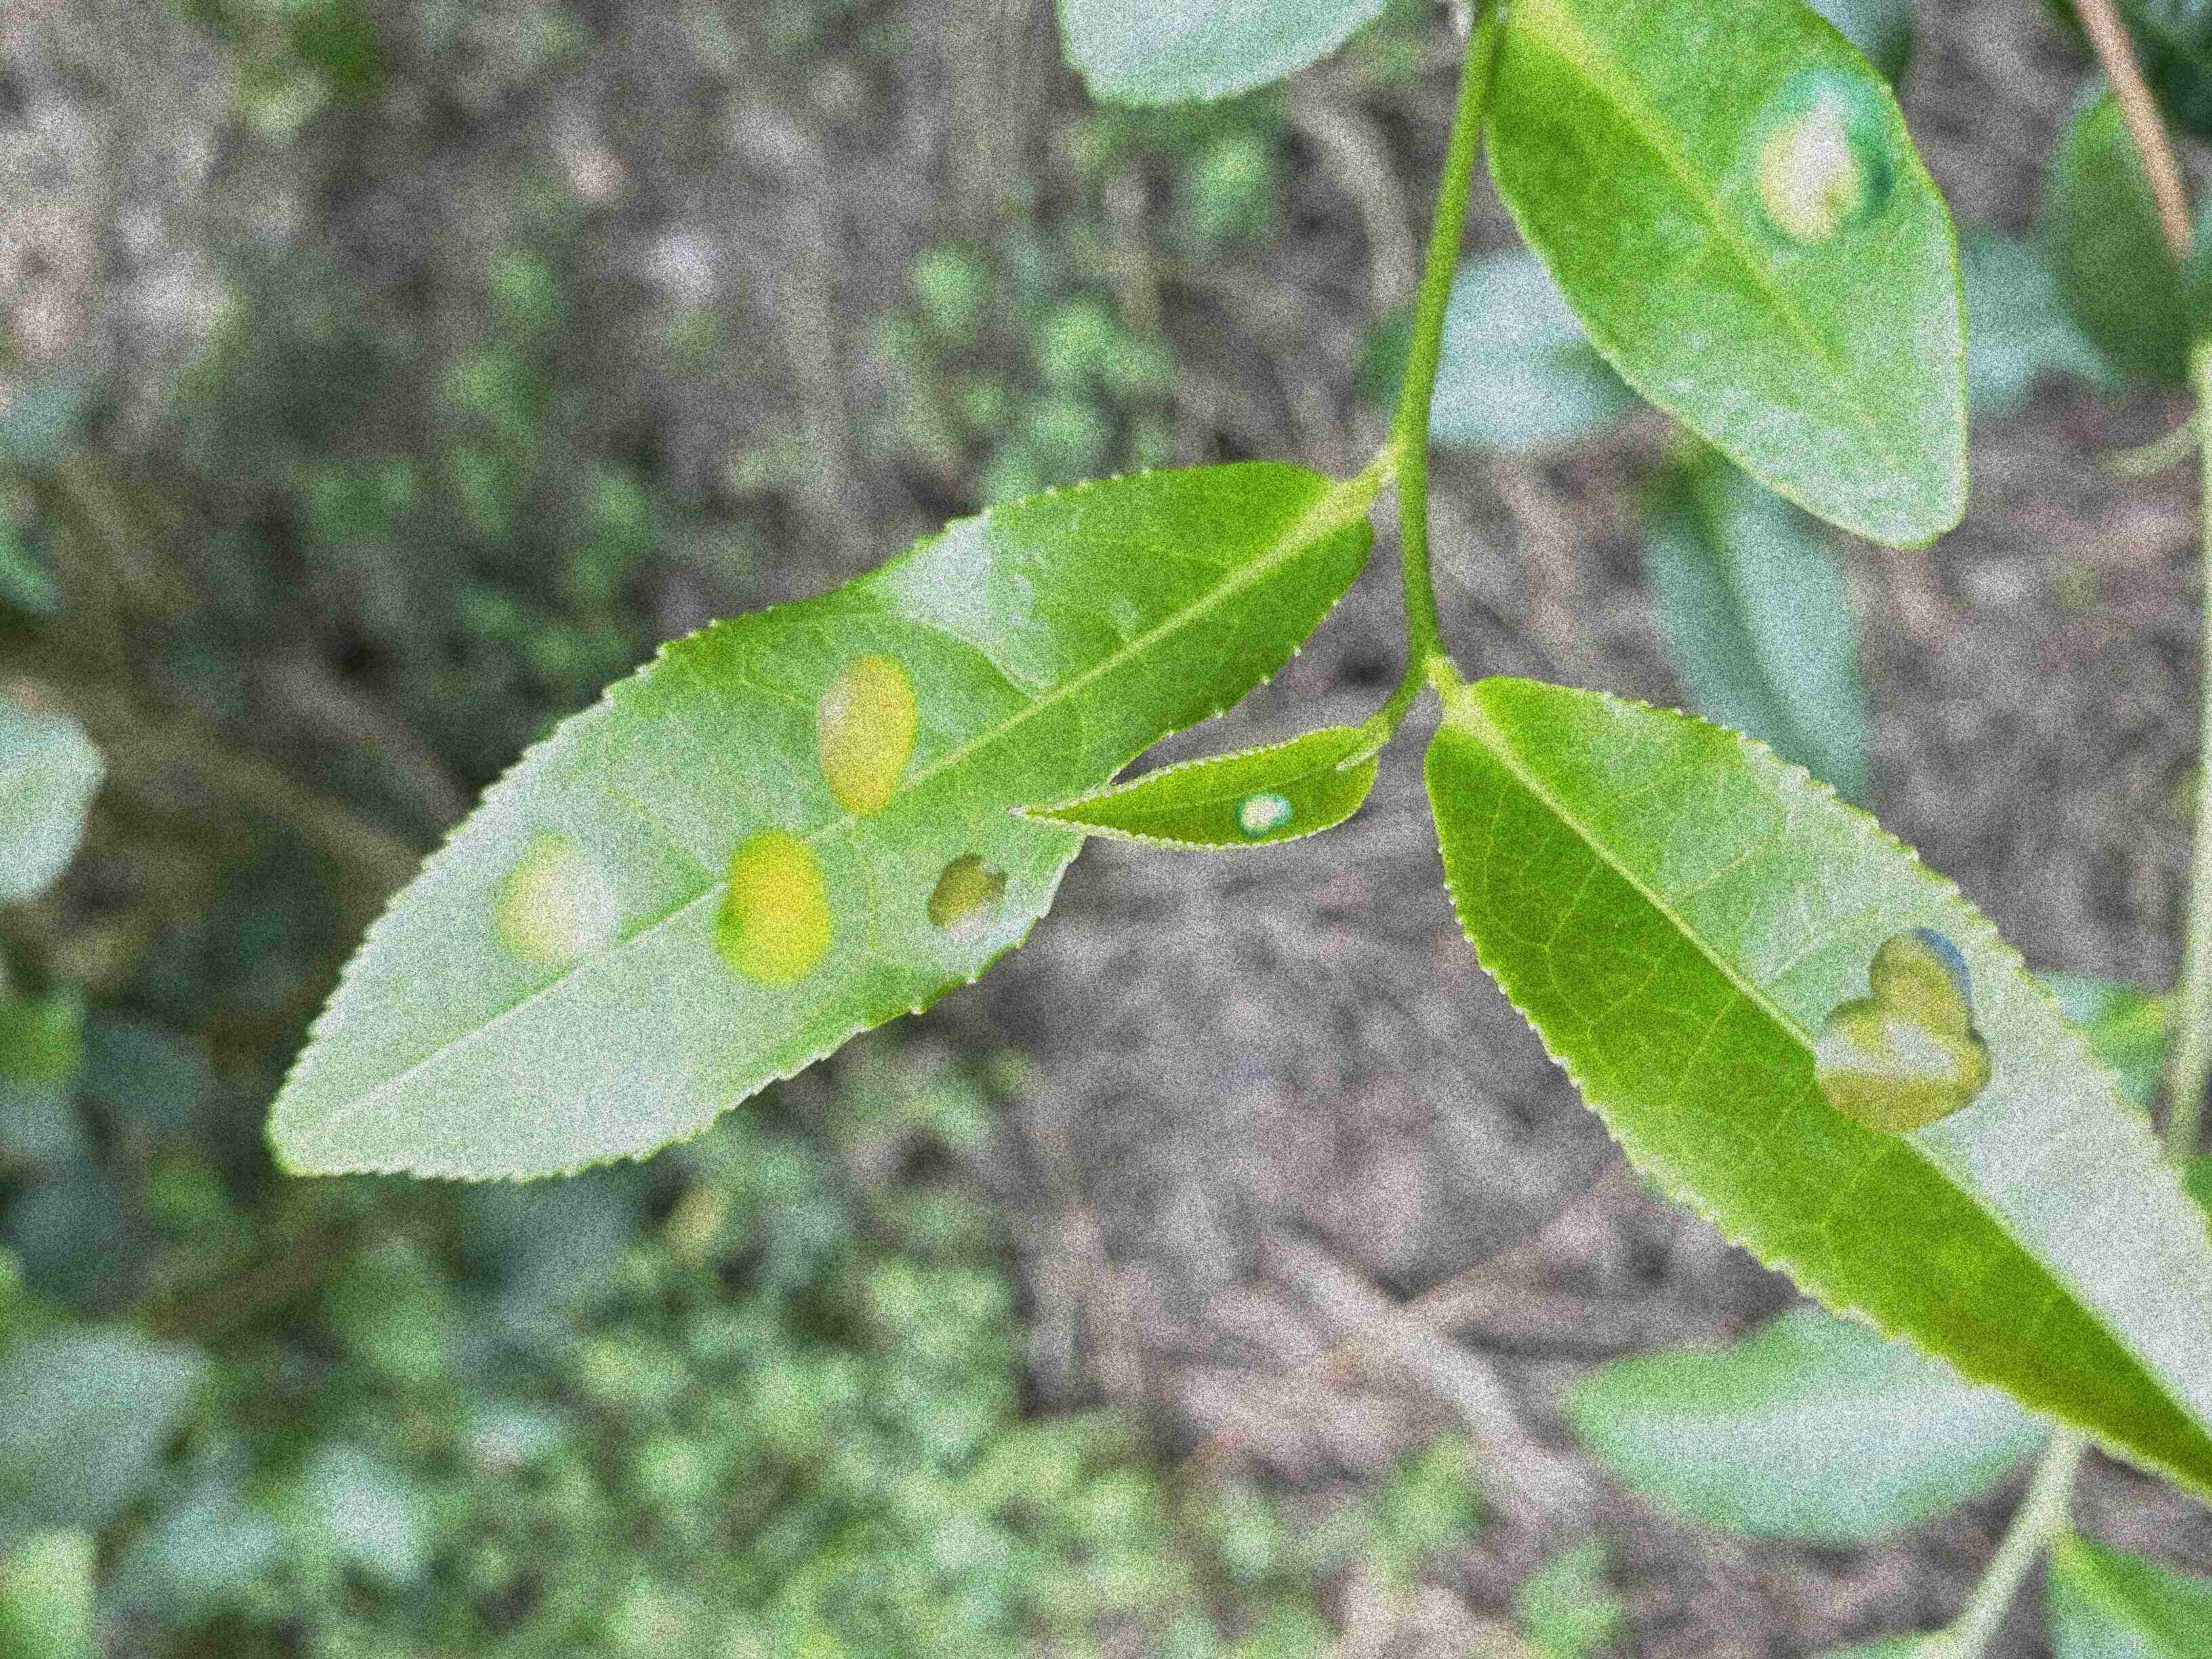chabing_high: (260, 458, 1379, 1183)
chabing_low: (1423, 671, 2209, 1495), (1480, 0, 1970, 549), (1012, 725, 1379, 854)
